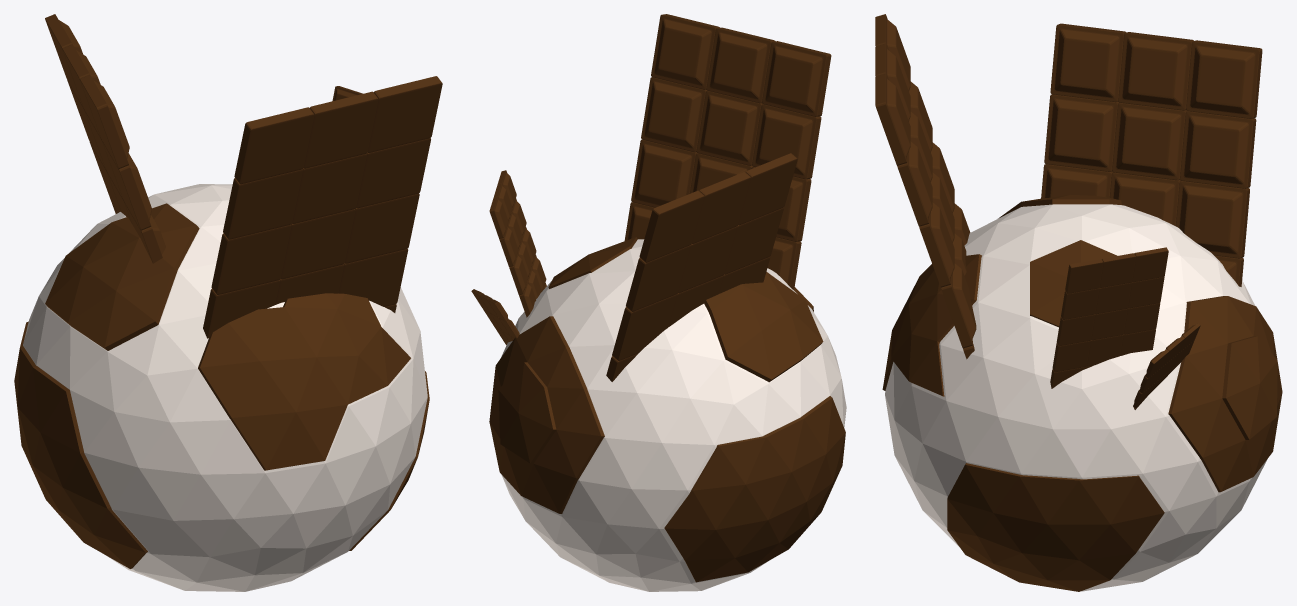
Rendered from çikolatagezegeni.fbx.
3 views of the same model, side by side, from view 1: azimuth 30°, elevation 25°; view 2: azimuth 150°, elevation 25°; view 3: azimuth 270°, elevation 25° (orthographic). The views are drawn at different scales.
Visible parts, largest first — view 1: Icosphere; view 2: Icosphere; view 3: Icosphere.
Part boxes in pixels (box(x1,y1,x2,y2)): Icosphere: box(14, 14, 442, 591); Icosphere: box(471, 14, 846, 591); Icosphere: box(875, 14, 1282, 591).
Bounding box in the file's own units: 1187 × 1632 × 1152.
